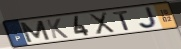4: (73, 15, 91, 37)
J: (138, 6, 160, 30)
K: (44, 17, 70, 40)
M: (18, 19, 53, 44)
T: (111, 9, 131, 31)
X: (87, 11, 117, 36)
